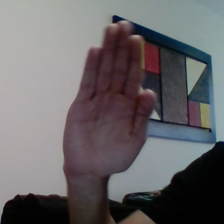left: (56, 15, 161, 188)
